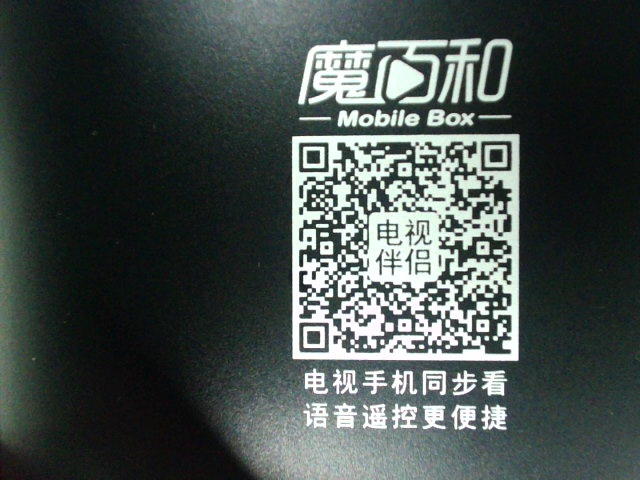AZ_MobileBox: (281, 30, 525, 437)
